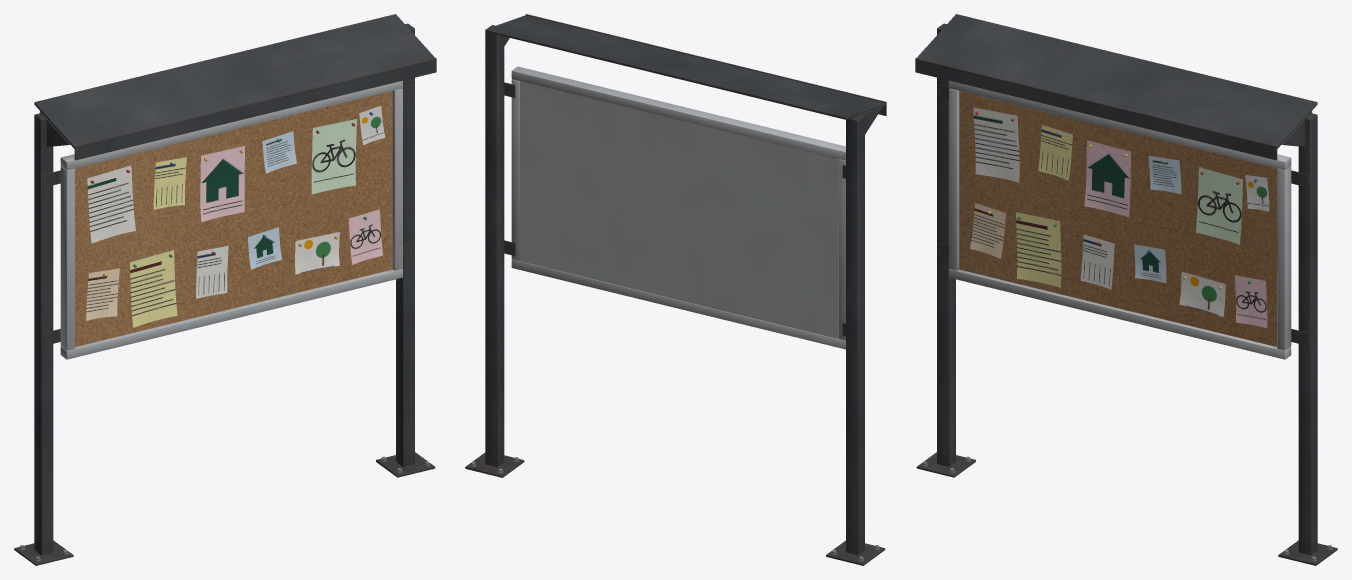
Rendered from notice-board.glb.
The picture shows the model from 3 angles, left to right: view 1: azimuth 30°, elevation 25°; view 2: azimuth 150°, elevation 25°; view 3: azimuth 330°, elevation 25°; orthographic projection.
Parts seen in each view (by area): view 1: notice-board_body, notice-board_cork_face, notice-board_notes; view 2: notice-board_body; view 3: notice-board_body, notice-board_cork_face, notice-board_notes.
Boxes of the visible parts, <box> form: notice-board_body: <box>14,14,436,565</box>; notice-board_cork_face: <box>74,91,392,346</box>; notice-board_notes: <box>86,105,385,327</box>; notice-board_body: <box>465,14,886,565</box>; notice-board_body: <box>915,14,1337,565</box>; notice-board_cork_face: <box>959,91,1277,346</box>; notice-board_notes: <box>970,107,1269,328</box>.
Size of the model in its own units: 1.9 by 2.02 by 0.3489.
3 materials, 3 textured.
